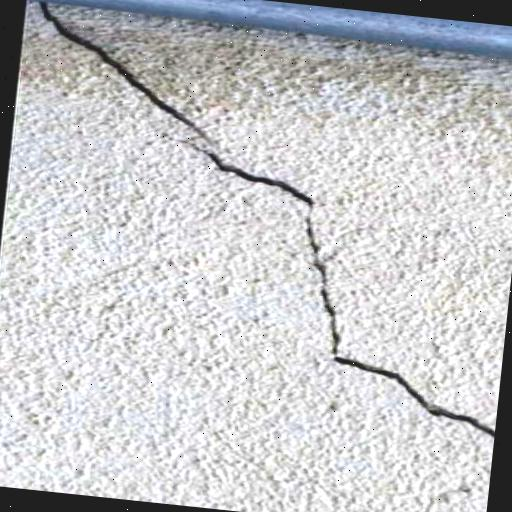spalling: (30, 8, 495, 441)
